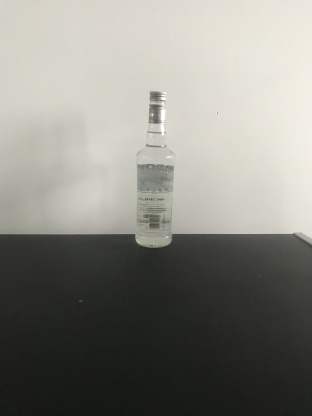nakretka: (147, 88, 167, 123)
